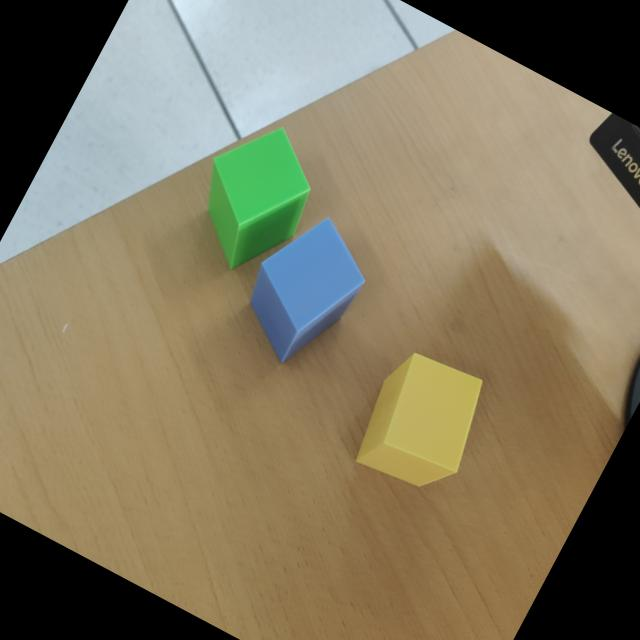blue: (248, 220, 364, 364)
green: (206, 129, 309, 270)
yellow: (354, 353, 482, 488)
